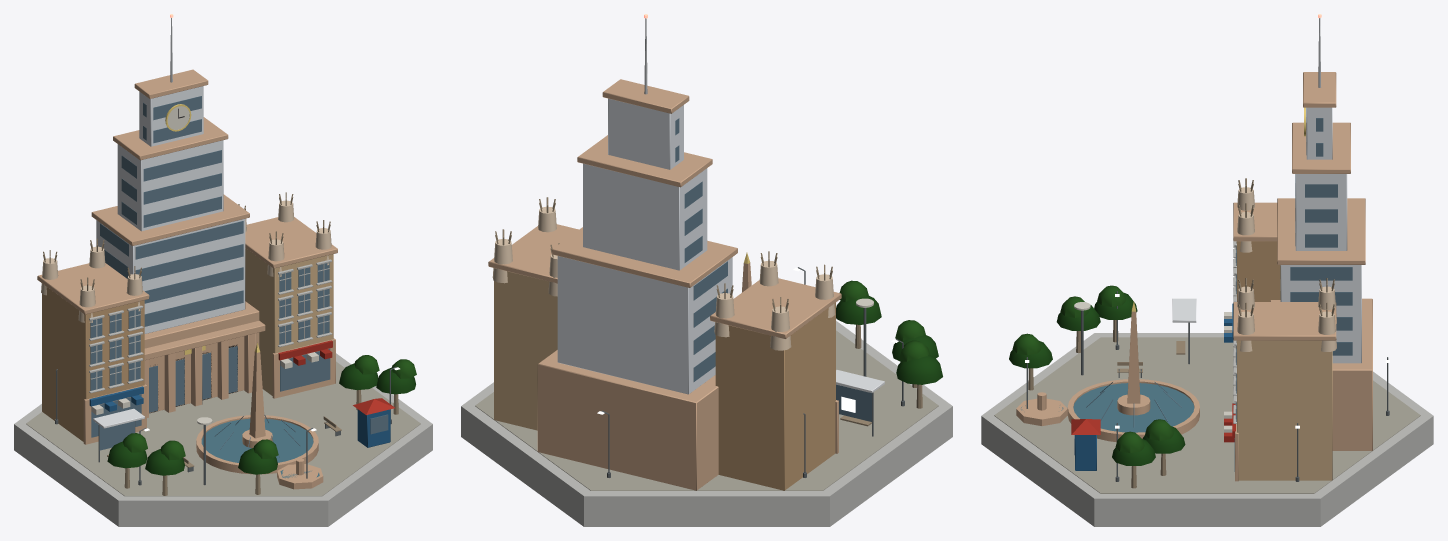
The model's file is cityCenter_africa.glb.
The picture shows the model from 3 angles, left to right: view 1: azimuth 30°, elevation 25°; view 2: azimuth 150°, elevation 25°; view 3: azimuth 270°, elevation 25°; orthographic projection. The views are drawn at different scales.
Visible parts, largest first — view 1: stone, glass, wall_concrete, pavers, plaster, cladding, leaf, paint, wood, steel_dark; view 2: stone, cladding, plaster, wall_concrete, pavers, leaf, glass, wood, steel_dark; view 3: pavers, stone, wall_concrete, plaster, glass, cladding, leaf, paint, wood, steel_dark.
Part boxes in pixels (bbox=[...]): stone: bbox=[37, 69, 337, 489]; glass: bbox=[90, 96, 388, 478]; wall_concrete: bbox=[14, 259, 432, 526]; pavers: bbox=[26, 361, 420, 496]; plaster: bbox=[41, 200, 333, 441]; cladding: bbox=[93, 86, 245, 428]; leaf: bbox=[107, 355, 416, 475]; paint: bbox=[89, 106, 394, 447]; wood: bbox=[43, 192, 398, 495]; steel_dark: bbox=[55, 367, 396, 485]; stone: bbox=[488, 79, 841, 490]; cladding: bbox=[557, 98, 884, 394]; plaster: bbox=[492, 206, 835, 490]; wall_concrete: bbox=[461, 321, 952, 526]; pavers: bbox=[475, 330, 938, 490]; leaf: bbox=[836, 280, 942, 384]; glass: bbox=[675, 118, 871, 421]; wood: bbox=[495, 197, 922, 426]; steel_dark: bbox=[602, 267, 904, 477]; pavers: bbox=[994, 337, 1420, 493]; stone: bbox=[1016, 72, 1372, 481]; wall_concrete: bbox=[981, 241, 1433, 526]; plaster: bbox=[1236, 187, 1336, 480]; glass: bbox=[1021, 108, 1352, 471]; cladding: bbox=[1172, 107, 1361, 363]; leaf: bbox=[1009, 285, 1185, 465]; paint: bbox=[1071, 302, 1235, 470]; wood: bbox=[1028, 178, 1334, 488]; steel_dark: bbox=[1026, 291, 1389, 481].
Size of the model in its own units: 21.3 by 25.76 by 24.6.
